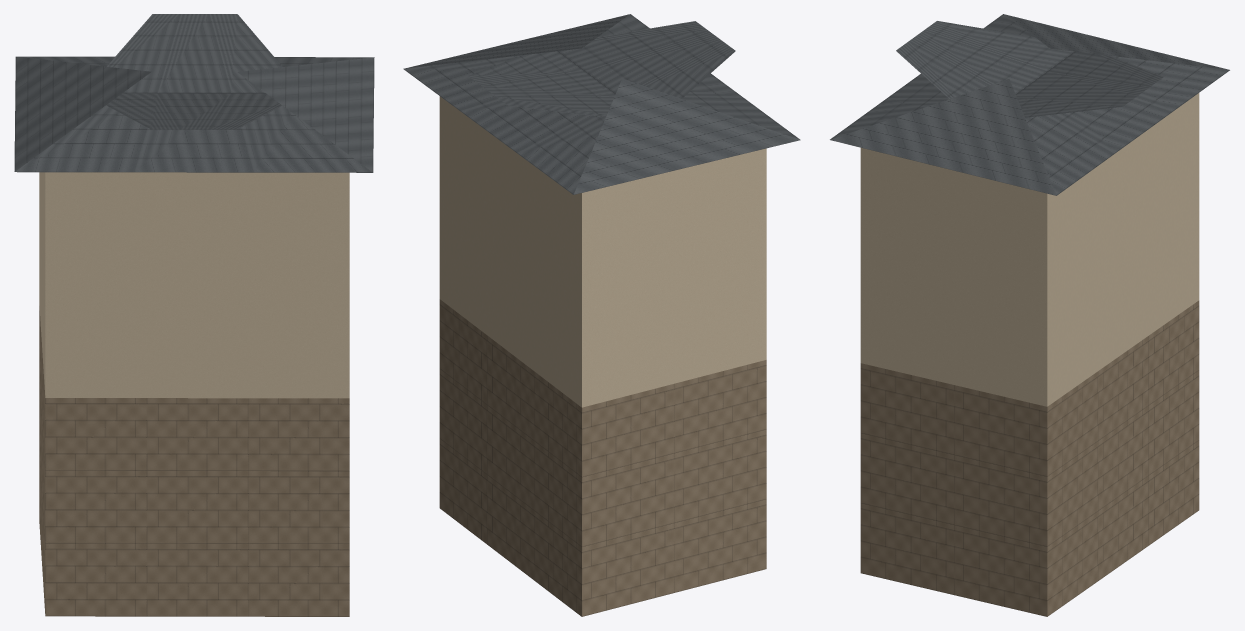
The model's file is bld_c-22_12_543.gltf.
The picture shows the model from 3 angles, left to right: view 1: azimuth 30°, elevation 25°; view 2: azimuth 150°, elevation 25°; view 3: azimuth 270°, elevation 25°; orthographic projection. The views are drawn at different scales.
Parts seen in each view (by area): view 1: bld_c-22_12_543; view 2: bld_c-22_12_543; view 3: bld_c-22_12_543.
Part boxes in pixels (x1,y1,x2,y2): bld_c-22_12_543: (14, 14, 374, 616); bld_c-22_12_543: (403, 14, 800, 616); bld_c-22_12_543: (830, 14, 1229, 616).
Size of the model in its own units: 9.47 by 11.6 by 8.82.
3 materials, 3 textured.
